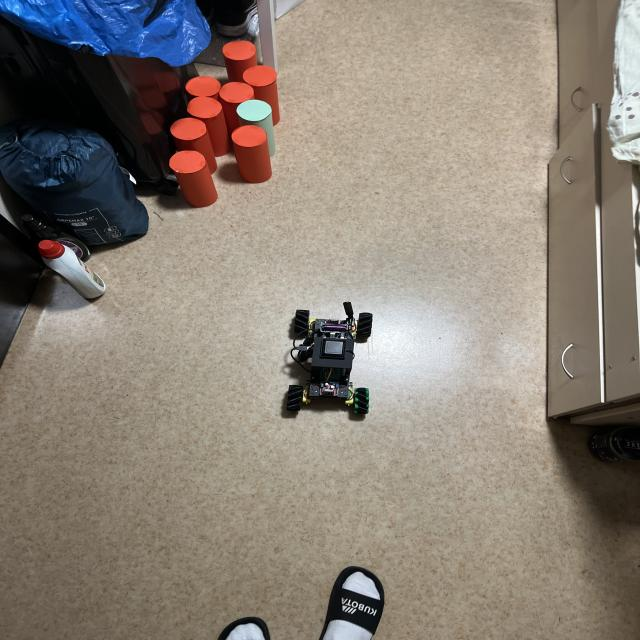robot: (286, 302, 373, 413)
